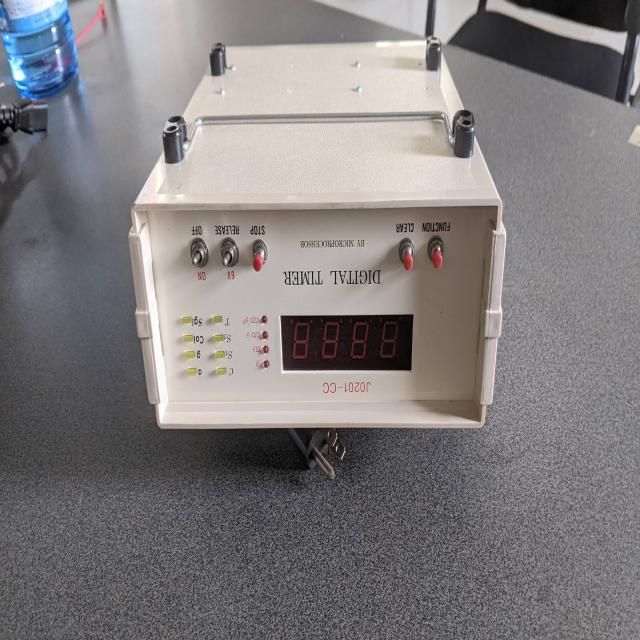Freefall Digital Timer: (120, 15, 525, 491)
